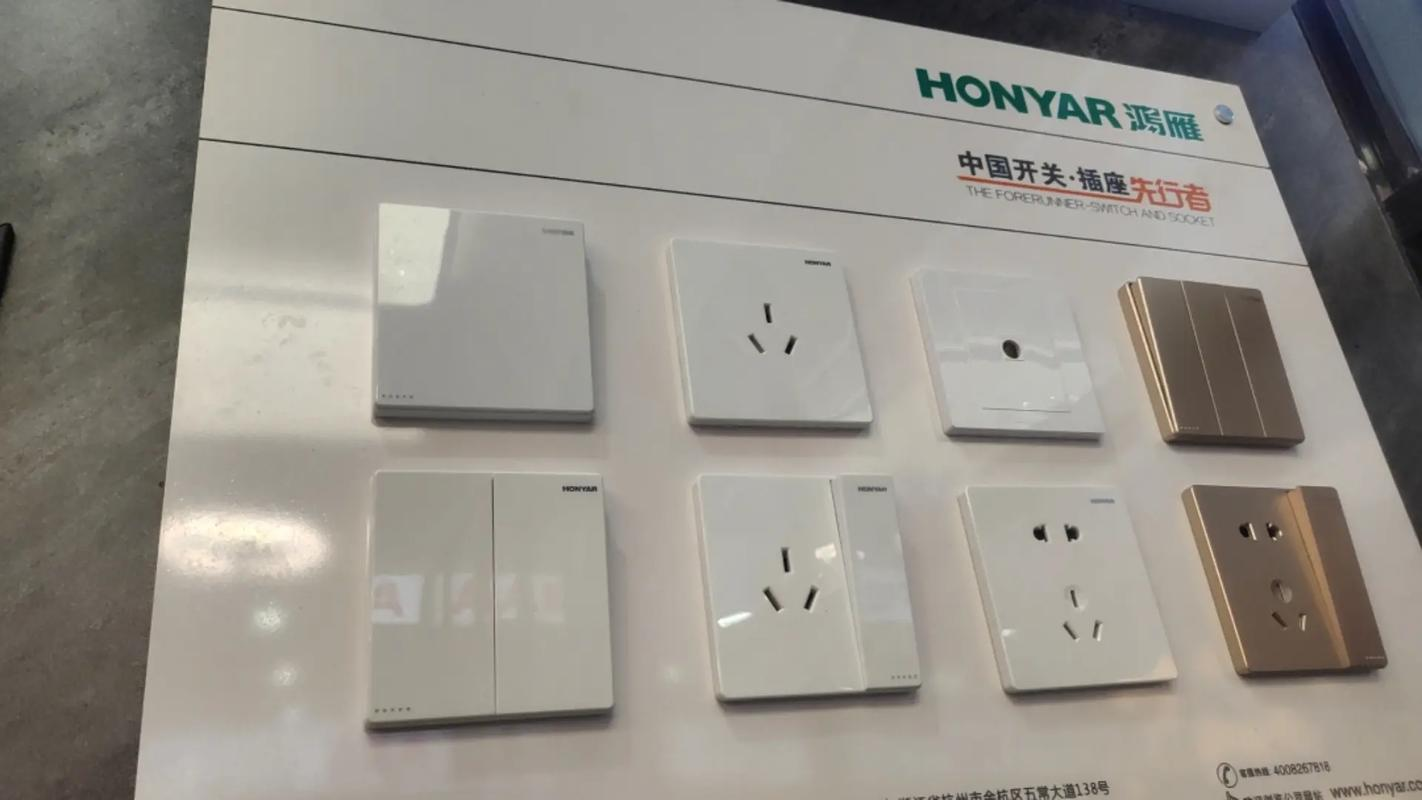button: (364, 467, 614, 719), (693, 468, 929, 707), (376, 202, 601, 423), (1183, 481, 1388, 677), (1119, 277, 1308, 447)
